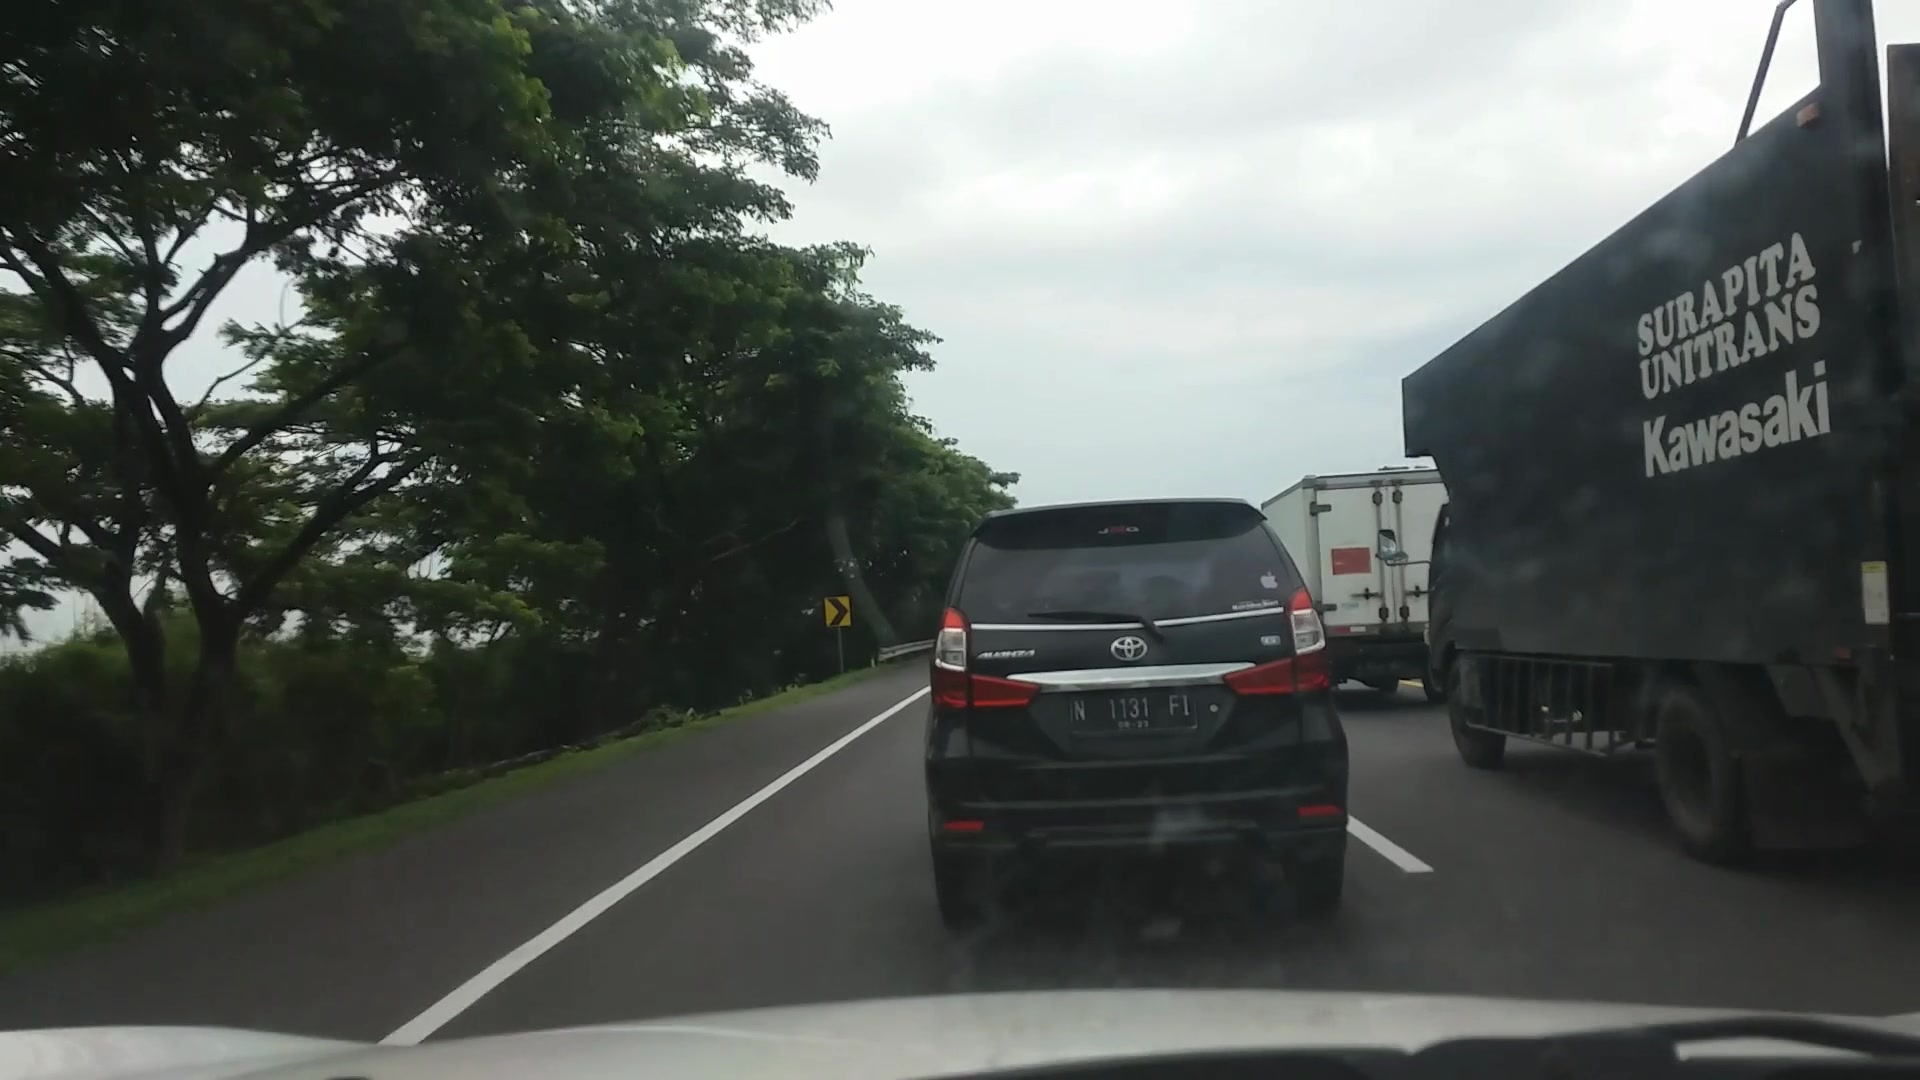plate_positive: (1069, 690, 1197, 732)
